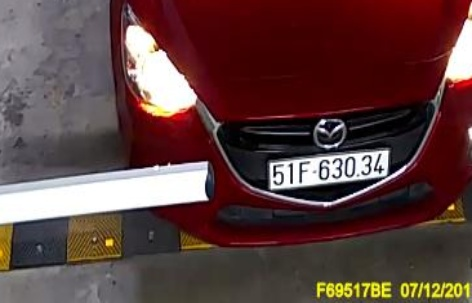plate: (267, 148, 390, 184)
